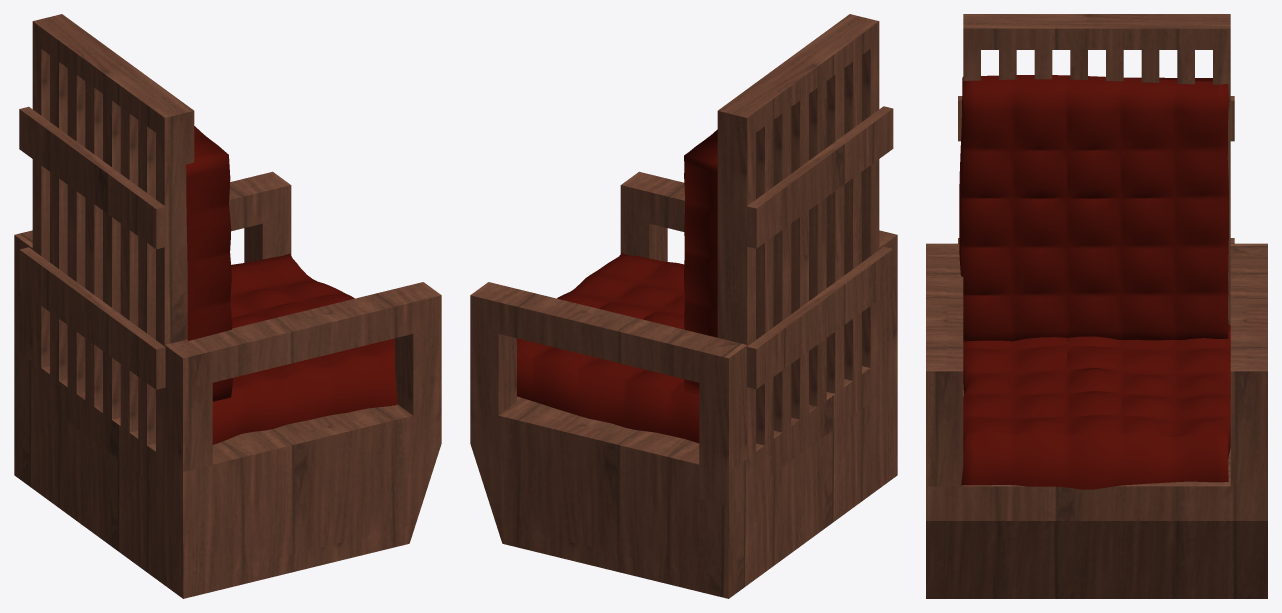
Rendered from House1_Chair2.fbx.
3 renders of one model, left to right at view 1: azimuth 30°, elevation 25°; view 2: azimuth 150°, elevation 25°; view 3: azimuth 270°, elevation 25°, orthographic.
Visible parts, largest first — view 1: Chair2Base, Chair2Cushion1, Chair2Cushion2; view 2: Chair2Base, Chair2Cushion1, Chair2Cushion2; view 3: Chair2Base, Chair2Cushion2, Chair2Cushion1.
Part boxes in pixels (bbox=[...]): Chair2Base: bbox=[14, 14, 441, 598]; Chair2Cushion1: bbox=[212, 253, 397, 444]; Chair2Cushion2: bbox=[186, 126, 232, 401]; Chair2Base: bbox=[470, 14, 897, 598]; Chair2Cushion1: bbox=[517, 253, 699, 443]; Chair2Cushion2: bbox=[684, 129, 717, 394]; Chair2Base: bbox=[926, 14, 1267, 598]; Chair2Cushion2: bbox=[959, 75, 1229, 341]; Chair2Cushion1: bbox=[961, 325, 1230, 489].
Bounding box in the file's own units: 0.6882 × 1.11 × 0.7297.
